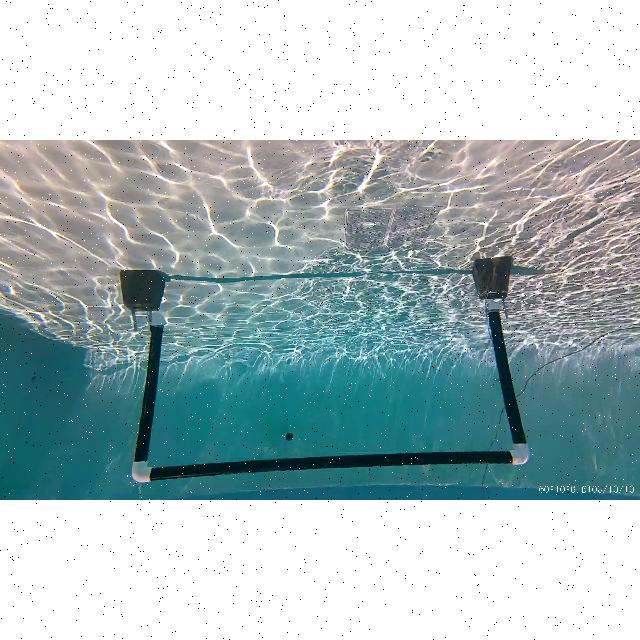prequal gate: (128, 298, 532, 484)
prequal gate leg l: (479, 298, 531, 470)
prequal gate leg r: (126, 297, 176, 479)
